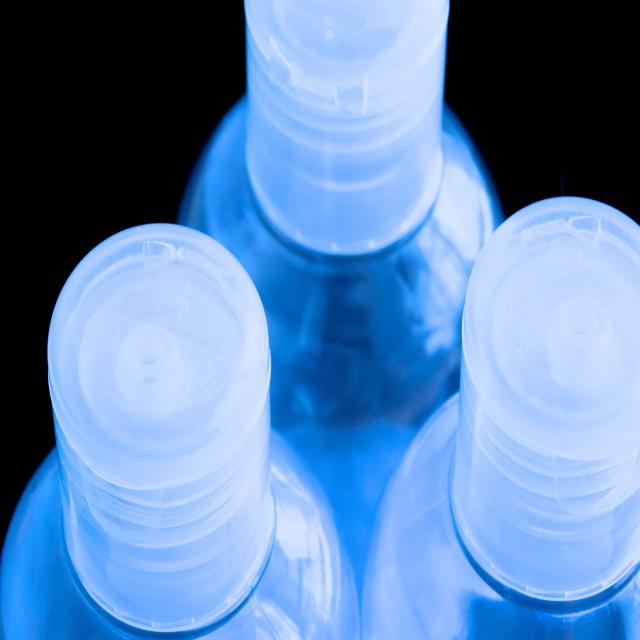plastic_bottle: (1, 222, 360, 638)
